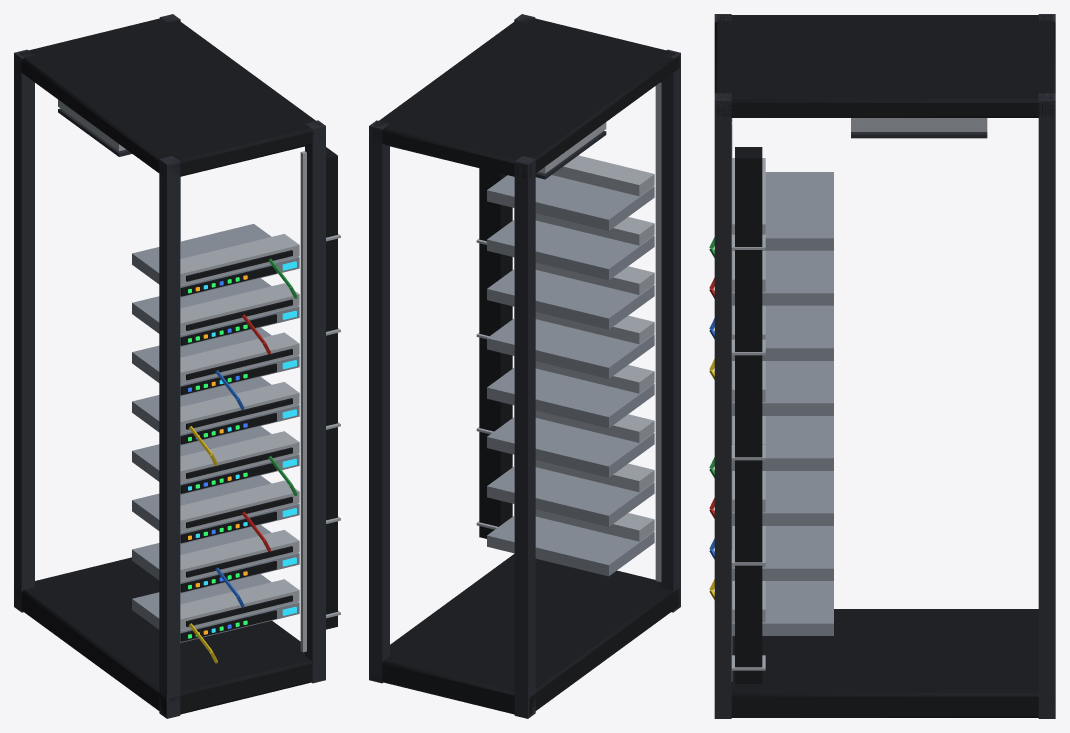
The model's file is rack_network_switch_rack.glb.
3 renders of one model, left to right at view 1: azimuth 30°, elevation 25°; view 2: azimuth 150°, elevation 25°; view 3: azimuth 270°, elevation 25°, orthographic. The views are drawn at different scales.
Visible parts, largest first — view 1: rack_network_switch_rack; view 2: rack_network_switch_rack; view 3: rack_network_switch_rack.
Part boxes in pixels (<box>): rack_network_switch_rack: <box>14,14,340,718</box>; rack_network_switch_rack: <box>369,14,680,718</box>; rack_network_switch_rack: <box>709,14,1055,718</box>.
Bounding box in the file's own units: 0.685 × 2 × 1.02.
